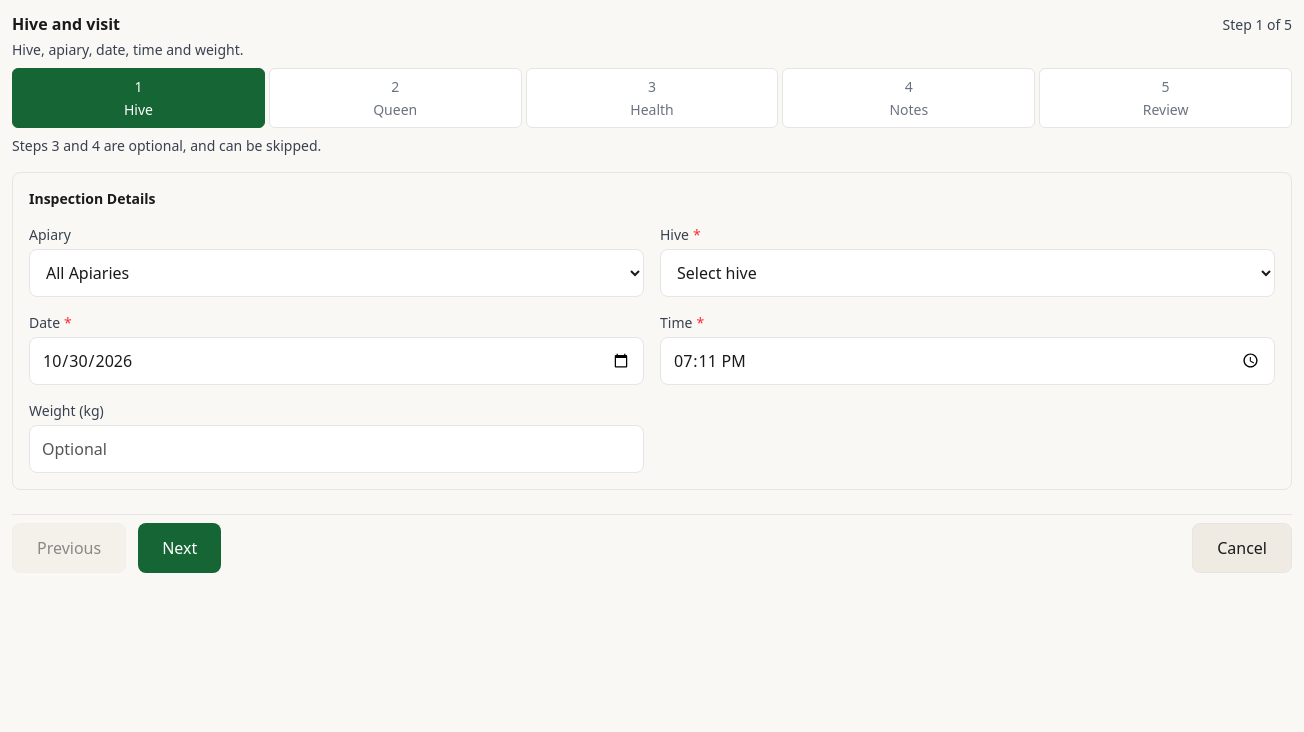
Test: validation › blocks Next while the hive is unset, and says why
Click the button "Next" at (180, 548), box [138,522,221,572]
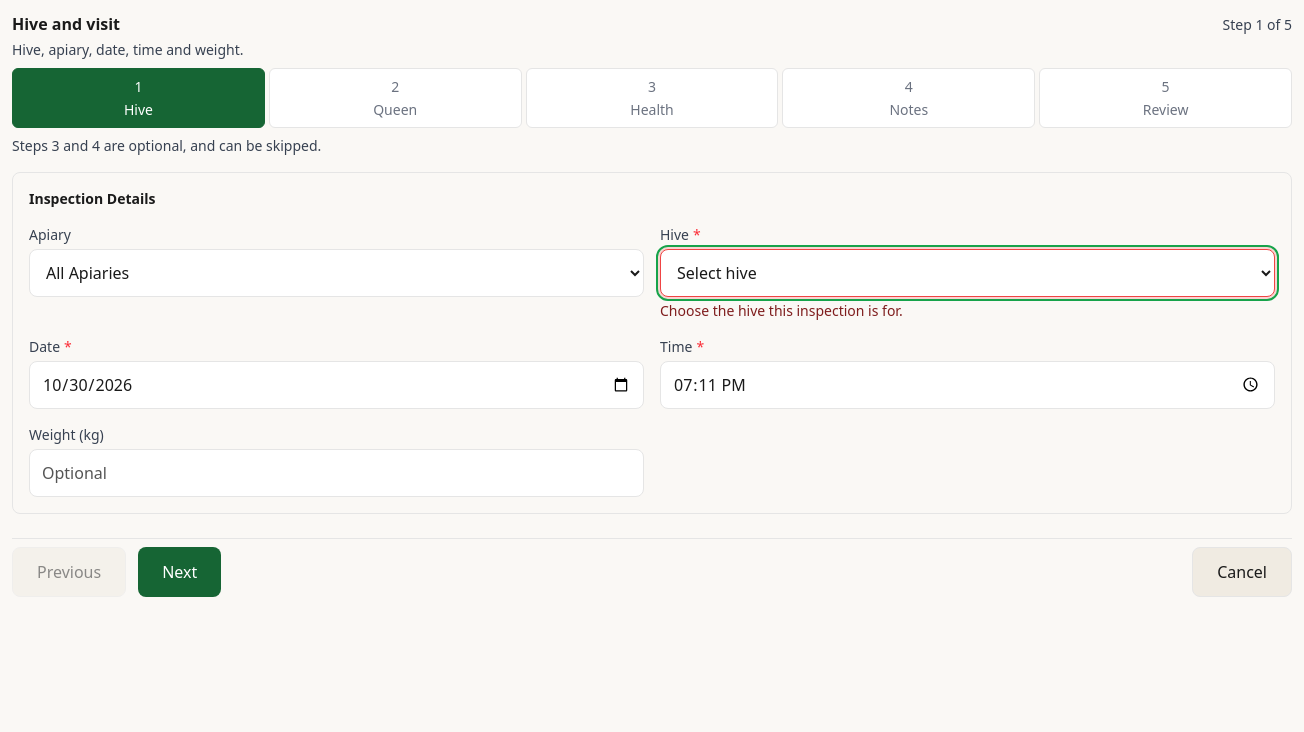
Expected: the text "Step 1 of 5" is shown, [1222,15,1292,35]
Expected: the message reads "Choose the hive this inspection is for.", [660,300,903,320]
